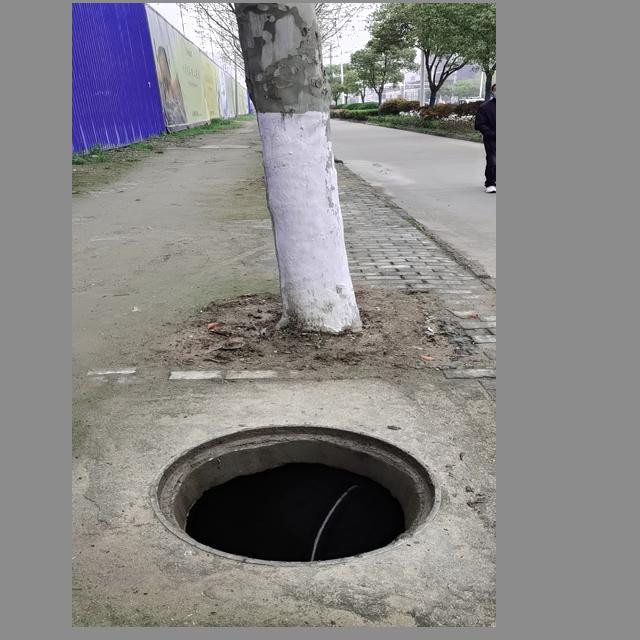lose: (148, 421, 444, 567)
